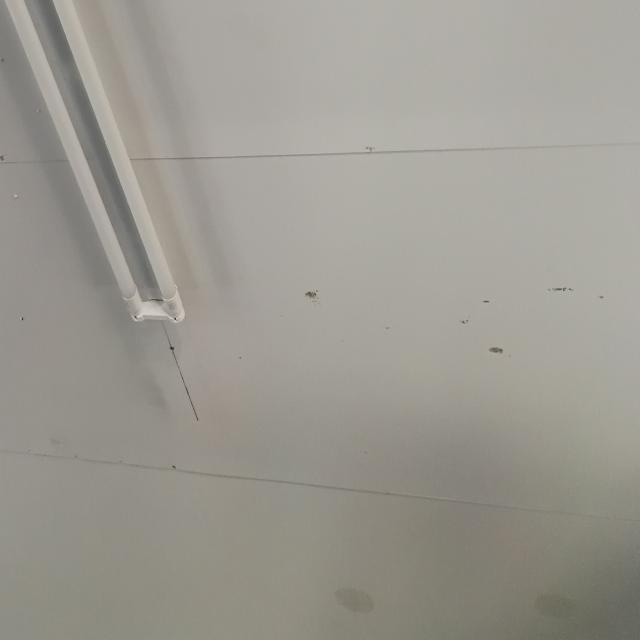fluorescent tube: (0, 0, 197, 336)
